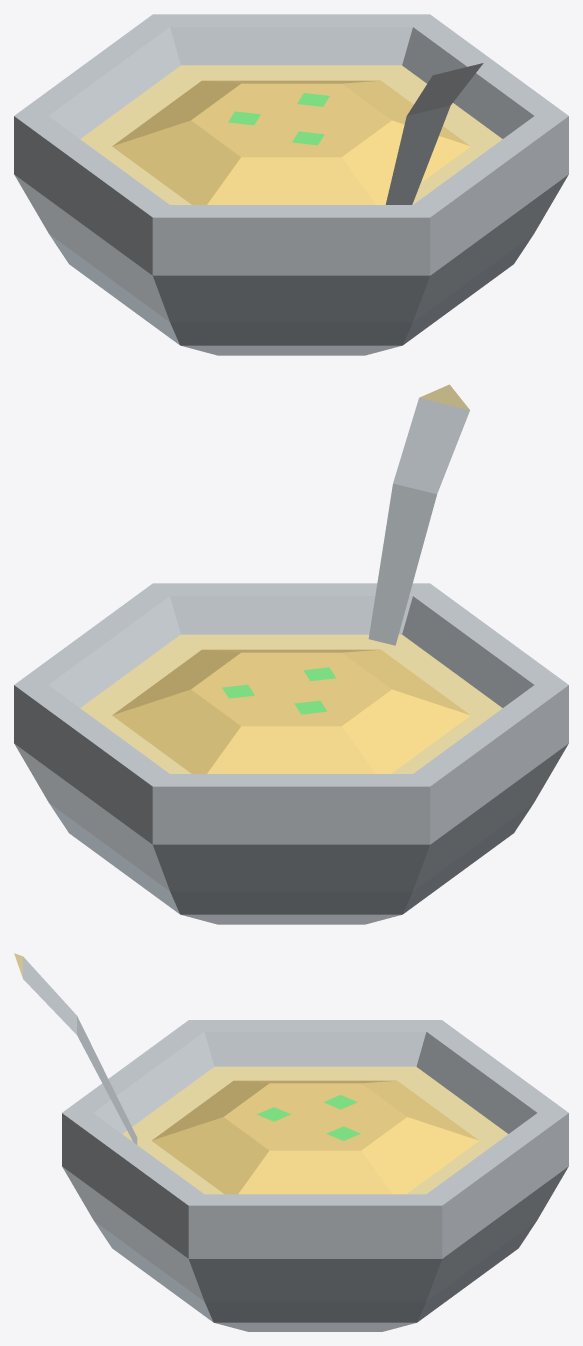
The model's file is asset.glb.
3 renders of one model, top to bottom at view 1: azimuth 30°, elevation 25°; view 2: azimuth 150°, elevation 25°; view 3: azimuth 270°, elevation 25°, orthographic. The views are drawn at different scales.
Parts seen in each view (by area): view 1: Daal; view 2: Daal; view 3: Daal.
Part boxes in pixels (<box>): Daal: <box>14,14,568,355</box>; Daal: <box>14,384,568,924</box>; Daal: <box>14,953,568,1331</box>.
Bounding box in the file's own units: 50.22 × 41.93 × 63.46.
